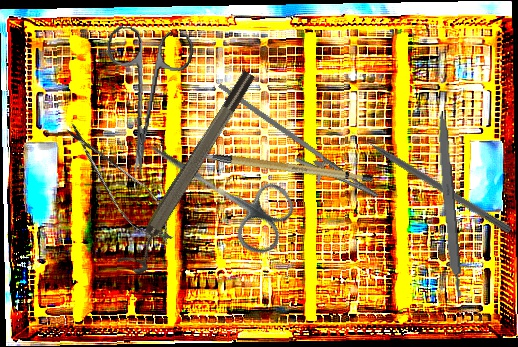Fixation Ring: (116, 68, 267, 277)
Iris Scissors: (128, 116, 304, 262), (92, 24, 195, 178)
Micro Scissor: (53, 114, 186, 255)
Needle Holder: (199, 82, 391, 212)
Pusher: (347, 125, 514, 235)
Scalpel Handle: (190, 123, 376, 207), (433, 110, 464, 299)
